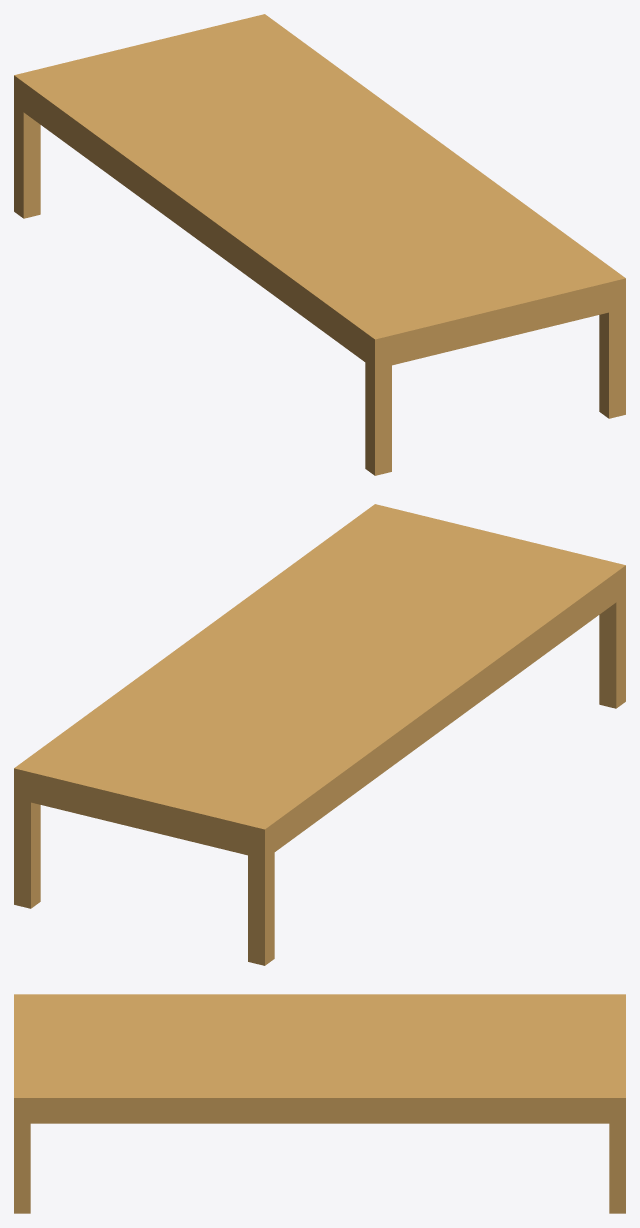
File: ekedalen.gltf
3 renders of one model, top to bottom at view 1: azimuth 30°, elevation 25°; view 2: azimuth 150°, elevation 25°; view 3: azimuth 270°, elevation 25°, orthographic. The views are drawn at different scales.
Parts seen in each view (by area): view 1: Ekedalen; view 2: Ekedalen; view 3: Ekedalen.
Boxes of the visible parts, bbox=[...] form: Ekedalen: bbox=[14, 14, 625, 475]; Ekedalen: bbox=[14, 504, 625, 965]; Ekedalen: bbox=[14, 994, 625, 1213].
Bounding box in the file's own units: 2.96 × 1.54 × 7.38.
Materials: 1 (1 with a texture image).
